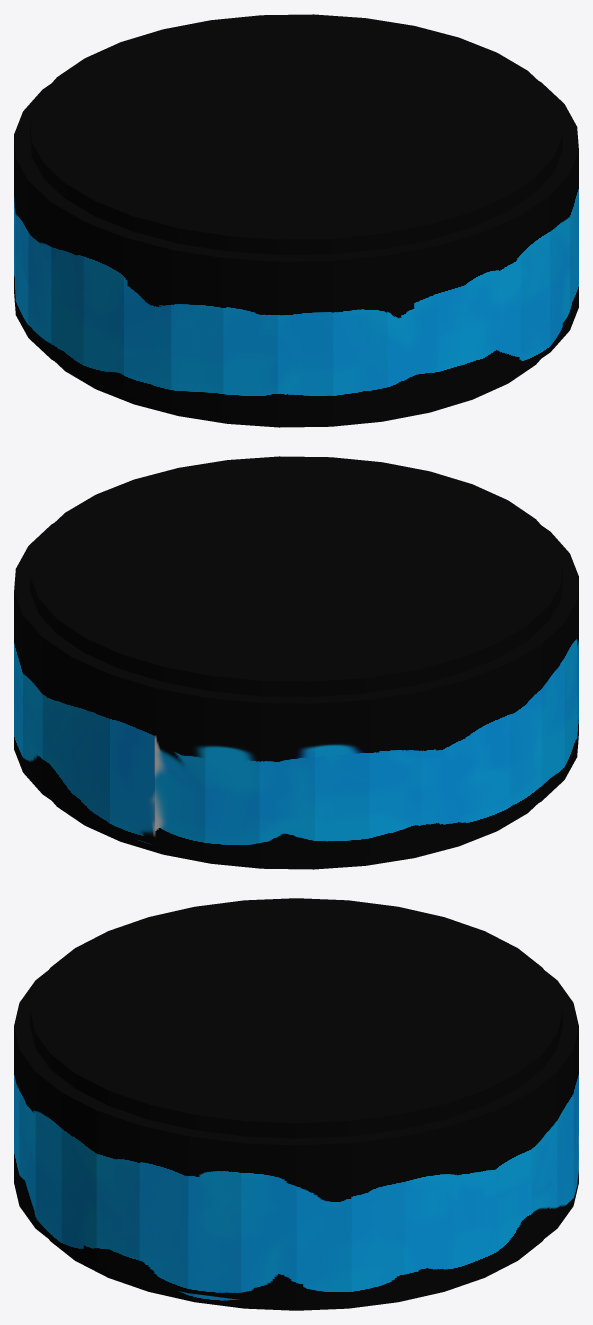
Rendered from GlowRing.glb.
The picture shows the model from 3 angles, top to bottom: view 1: azimuth 30°, elevation 25°; view 2: azimuth 150°, elevation 25°; view 3: azimuth 270°, elevation 25°; orthographic projection.
Visible parts, largest first — view 1: Cylinder.001, Cylinder; view 2: Cylinder.001, Cylinder; view 3: Cylinder.001, Cylinder.
Part boxes in pixels (<box>): Cylinder.001: <box>30,14,562,427</box>; Cylinder: <box>14,81,578,418</box>; Cylinder.001: <box>30,456,562,869</box>; Cylinder: <box>14,523,578,860</box>; Cylinder.001: <box>30,898,562,1310</box>; Cylinder: <box>14,970,578,1302</box>.
Bounding box in the file's own units: 2 × 0.7322 × 2.
Materials: 2 (2 with a texture image).
